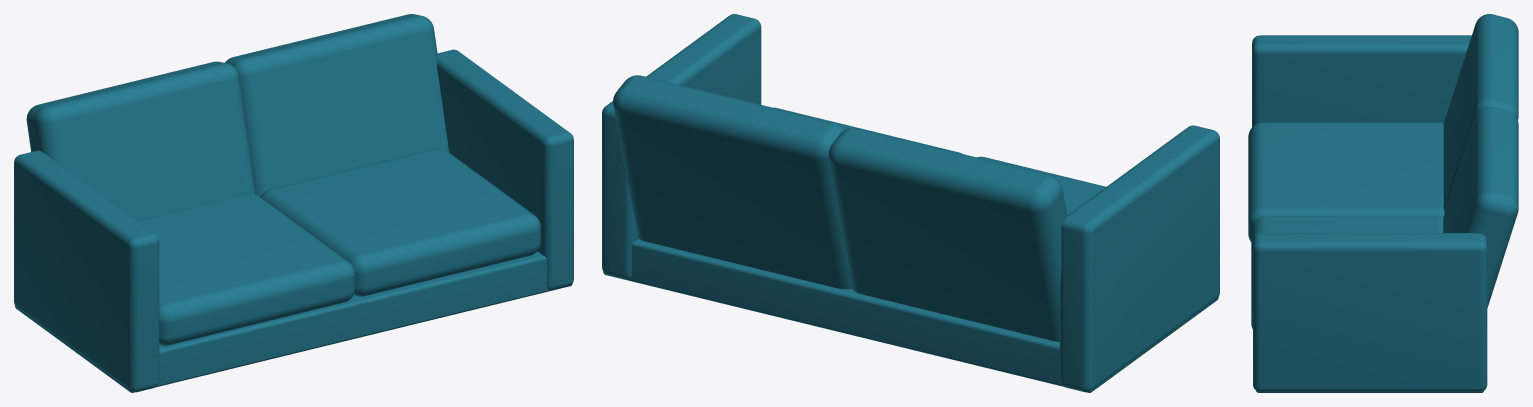
File: sofa.glb
3 renders of one model, left to right at view 1: azimuth 30°, elevation 25°; view 2: azimuth 150°, elevation 25°; view 3: azimuth 270°, elevation 25°, orthographic. The views are drawn at different scales.
Parts seen in each view (by area): view 1: Cube_6, Cube_1, Cube_5, Cube_4, Cube_3, Cube_2, Cube; view 2: Cube_5, Cube_6, Cube_1, Cube, Cube_2, Cube_3; view 3: Cube_2, Cube_3, Cube_1, Cube_6, Cube_5, Cube_4, Cube.
Part boxes in pixels (x1,y1,x2,y2): Cube_6: (225,14,449,196); Cube_1: (14,150,159,392); Cube_5: (26,61,255,220); Cube_4: (260,148,540,296); Cube_3: (136,193,355,345); Cube_2: (437,49,573,290); Cube: (15,251,572,392); Cube_5: (828,127,1067,341); Cube_6: (613,75,852,289); Cube_1: (1059,125,1219,392); Cube: (603,239,1218,392); Cube_2: (602,14,761,279); Cube_3: (977,156,1105,215); Cube_2: (1253,233,1487,391); Cube_3: (1248,122,1444,241); Cube_1: (1252,35,1471,126); Cube_6: (1443,107,1518,307); Cube_5: (1443,14,1518,212); Cube_4: (1251,216,1443,329); Cube: (1256,390,1484,392).
Size of the model in its own units: 2.76 by 1.13 by 1.49.
